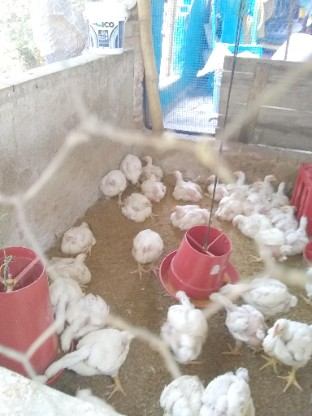Pollos: (43, 322, 134, 381), (253, 312, 312, 392), (207, 283, 262, 356), (158, 289, 207, 366), (219, 273, 295, 313), (57, 292, 109, 349), (203, 366, 257, 416), (157, 373, 202, 416), (44, 252, 94, 286), (126, 228, 162, 275), (251, 218, 286, 263), (167, 203, 215, 232), (57, 219, 94, 253), (170, 164, 202, 200), (96, 167, 125, 206), (121, 192, 155, 224), (288, 214, 310, 256), (51, 275, 82, 304), (141, 171, 167, 204), (219, 187, 242, 220), (119, 149, 140, 184), (229, 210, 256, 235), (138, 153, 164, 178), (270, 177, 293, 205), (206, 170, 226, 200), (227, 164, 248, 191), (301, 262, 312, 304), (251, 177, 266, 201), (279, 204, 303, 217), (264, 171, 278, 182), (261, 205, 275, 216)
